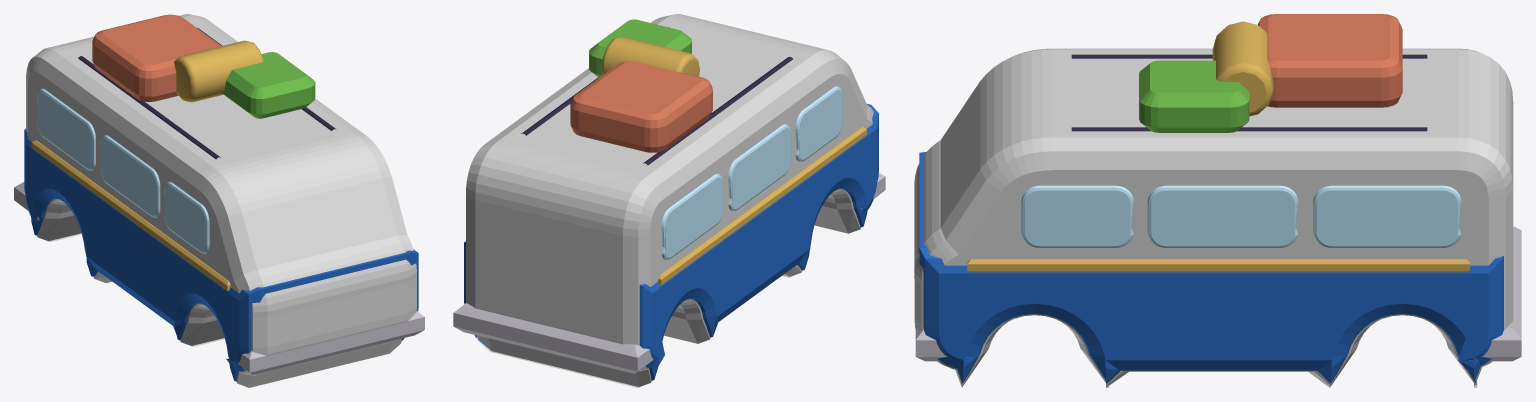
Rendered from candongueiro.glb.
3 views of the same model, side by side, from view 1: azimuth 30°, elevation 25°; view 2: azimuth 150°, elevation 25°; view 3: azimuth 270°, elevation 25° (orthographic). The views are drawn at different scales.
Parts seen in each view (by area): view 1: candongueiro_corpo, candongueiro_vidro; view 2: candongueiro_corpo, candongueiro_vidro; view 3: candongueiro_corpo, candongueiro_vidro.
Part boxes in pixels (left/top/right/bottom): candongueiro_corpo: left=14, top=14, right=424, bottom=387; candongueiro_vidro: left=37, top=88, right=209, bottom=253; candongueiro_corpo: left=453, top=14, right=885, bottom=387; candongueiro_vidro: left=661, top=86, right=842, bottom=259; candongueiro_corpo: left=914, top=14, right=1521, bottom=387; candongueiro_vidro: left=1021, top=185, right=1461, bottom=247.
Bounding box in the file's own units: 2.18 × 2.76 × 4.95.
